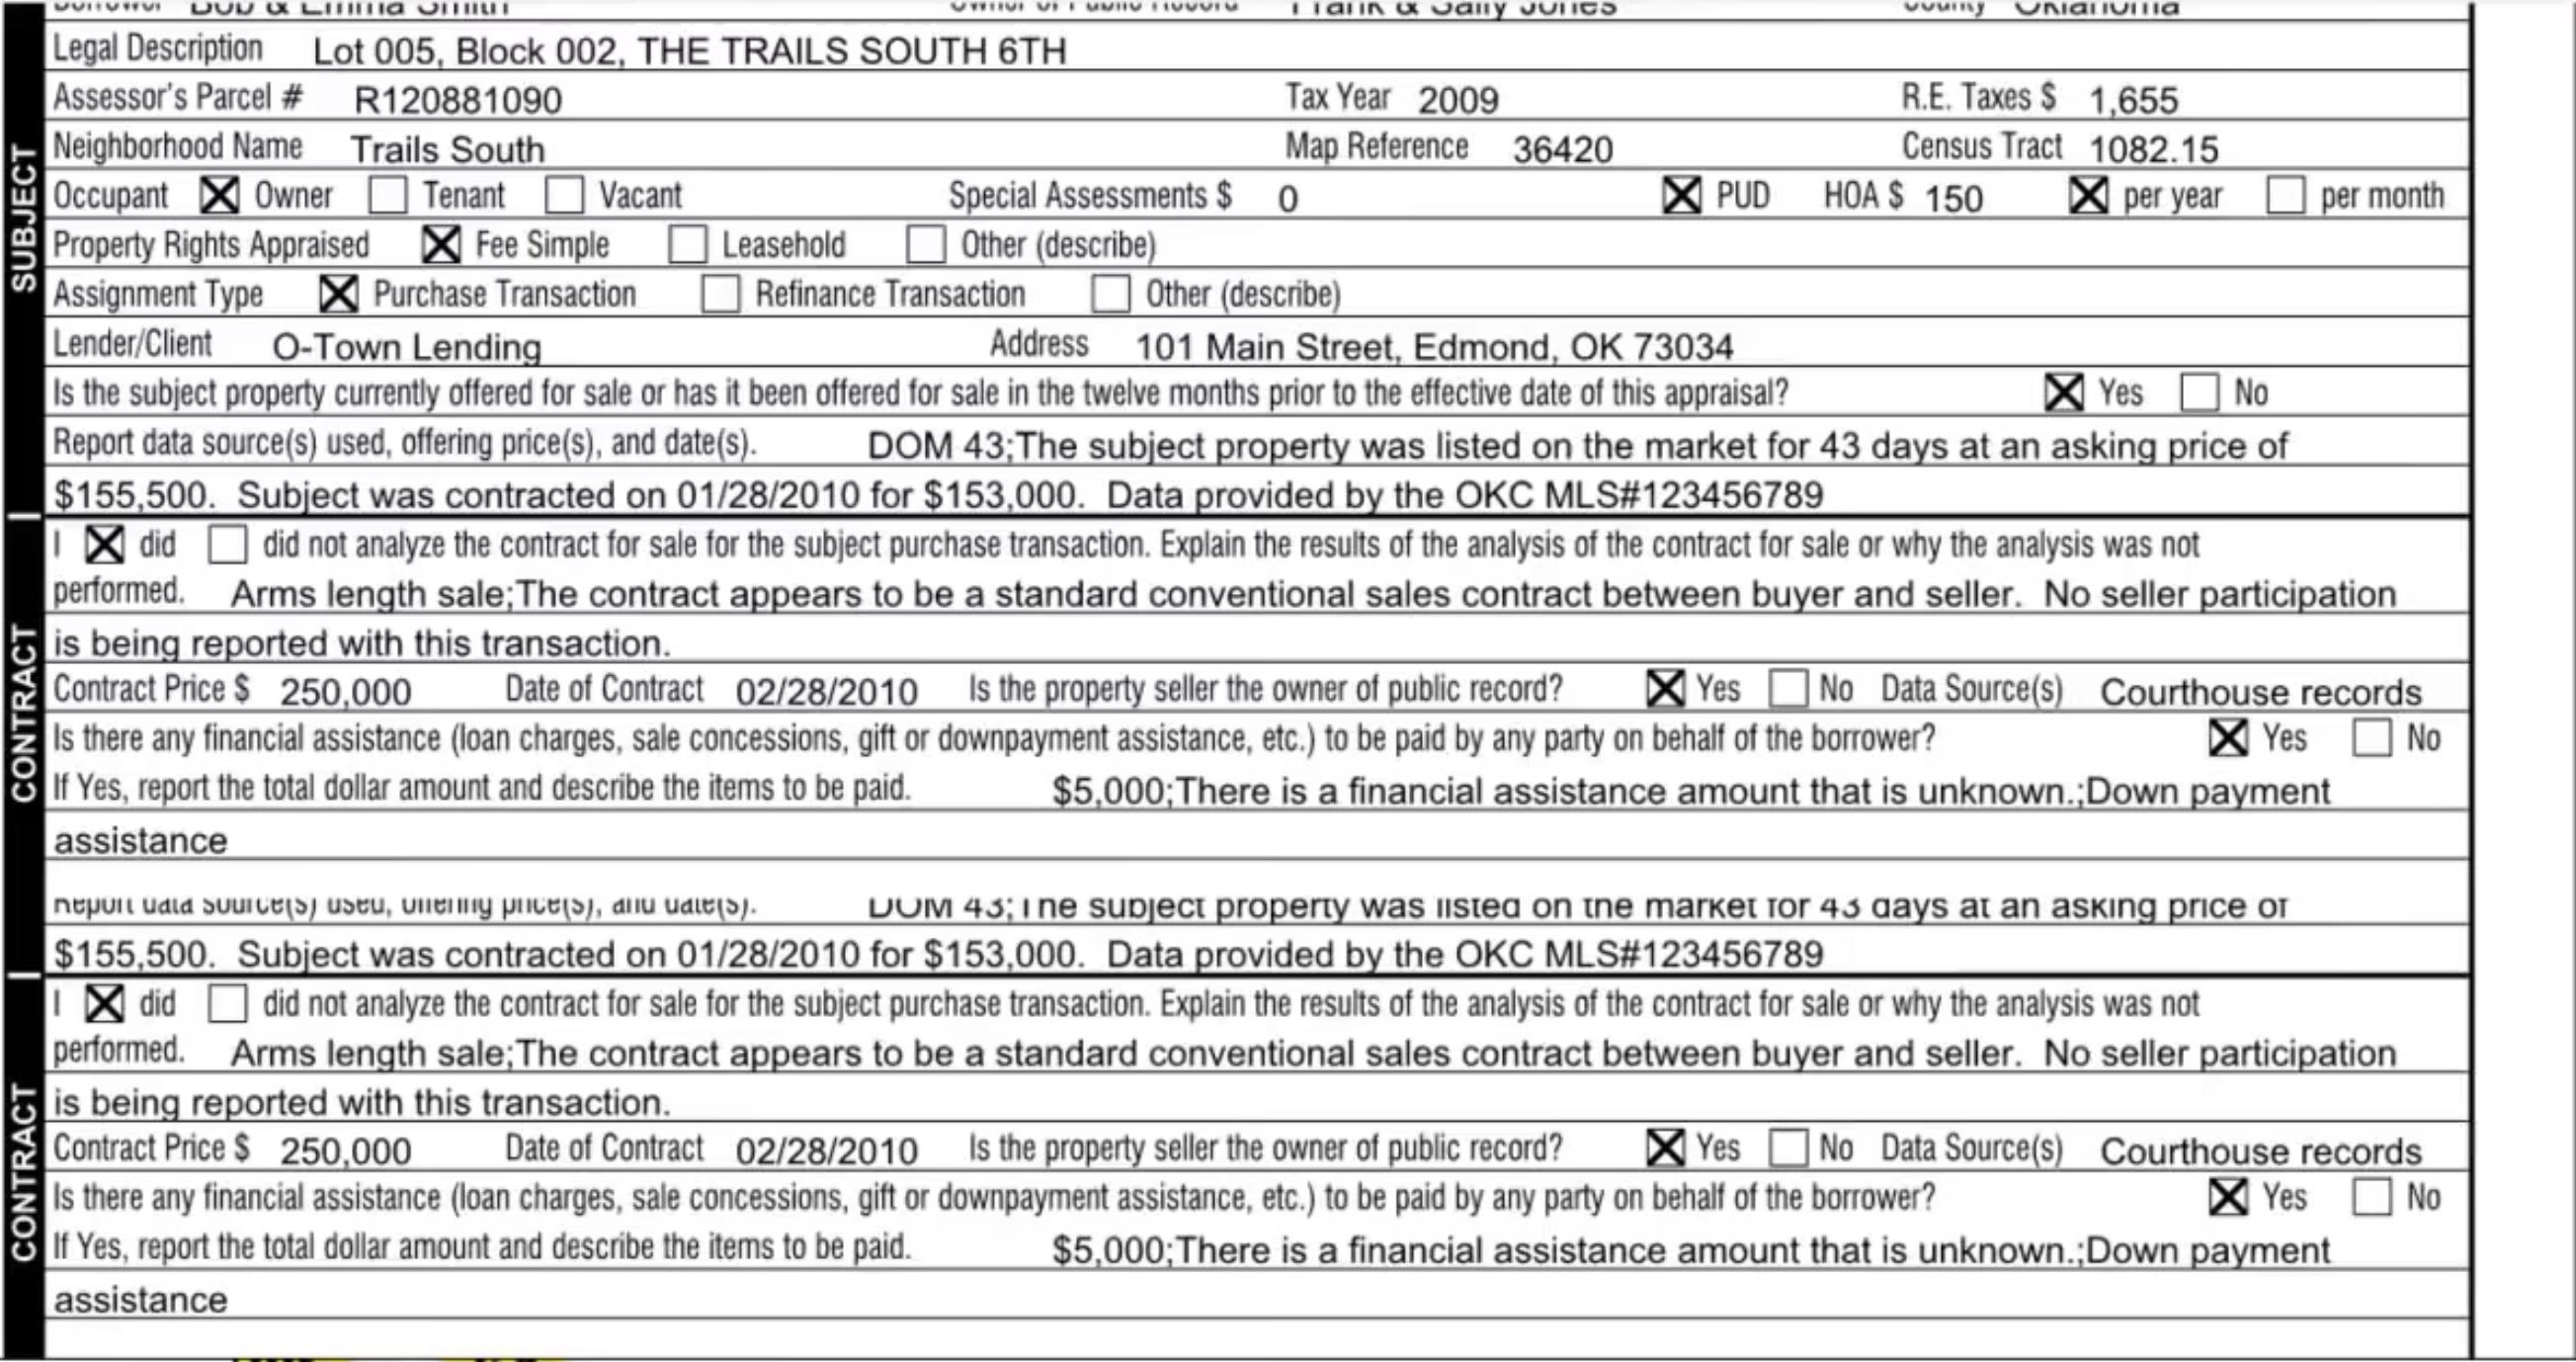checked: (417, 218, 470, 269), (2041, 365, 2089, 421), (2063, 169, 2113, 222), (77, 522, 131, 569), (1642, 1122, 1690, 1176), (2205, 713, 2254, 764), (313, 269, 363, 319), (80, 978, 129, 1028), (1641, 665, 1688, 716), (1661, 170, 1707, 222), (198, 170, 244, 220), (2208, 1171, 2251, 1221)
unchecked: (1085, 269, 1136, 322), (2261, 170, 2312, 223), (201, 517, 252, 569), (900, 220, 951, 271), (1763, 1123, 1814, 1174), (2346, 1171, 2397, 1222), (363, 170, 412, 222), (538, 170, 589, 220), (697, 269, 746, 320), (2176, 368, 2227, 418), (2348, 714, 2397, 764), (1767, 665, 1814, 716), (664, 220, 712, 269), (203, 982, 252, 1030)
